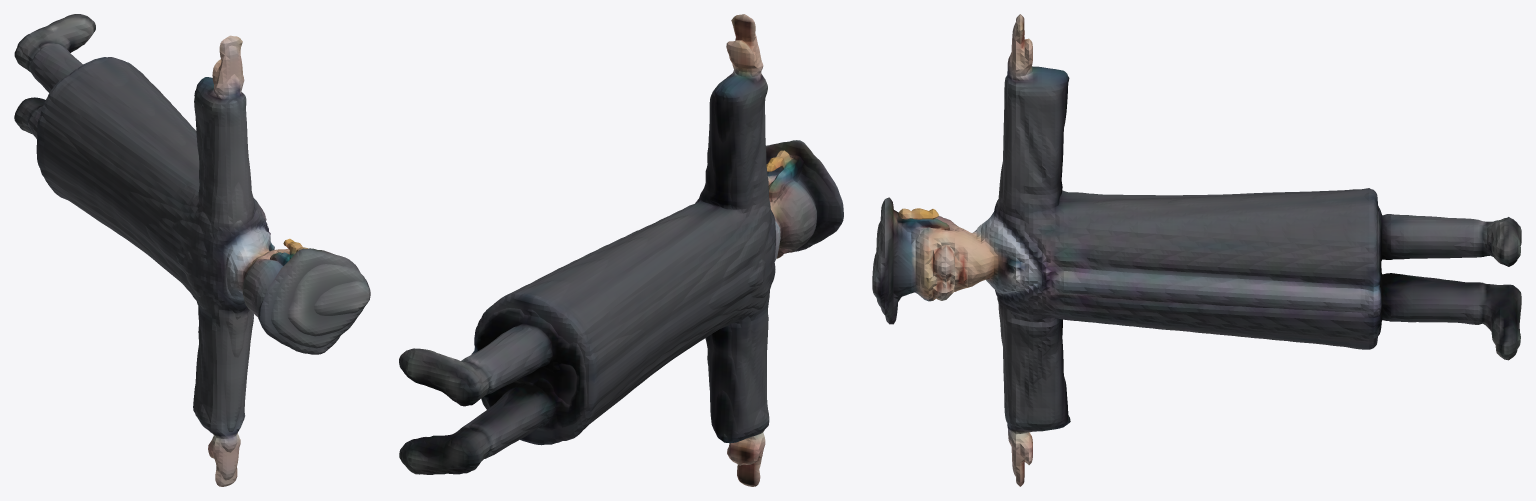
File: headmaster.glb
3 renders of one model, left to right at view 1: azimuth 30°, elevation 25°; view 2: azimuth 150°, elevation 25°; view 3: azimuth 270°, elevation 25°, orthographic. The views are drawn at different scales.
Visible parts, largest first — view 1: geometry_0; view 2: geometry_0; view 3: geometry_0.
Boxes of the visible parts, x1,y1,x2,y2 form: geometry_0: (14,14,370,486); geometry_0: (399,14,843,486); geometry_0: (872,14,1521,486).
Size of the model in its own units: 0.2456 by 0.8149 by 1.02.
